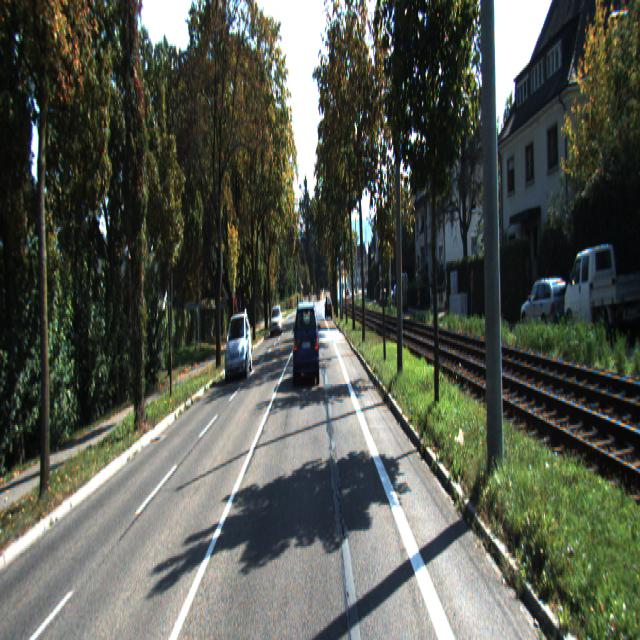Car: (562, 237, 640, 336), (520, 274, 571, 334), (292, 299, 320, 387), (225, 312, 252, 383), (270, 306, 282, 339)
